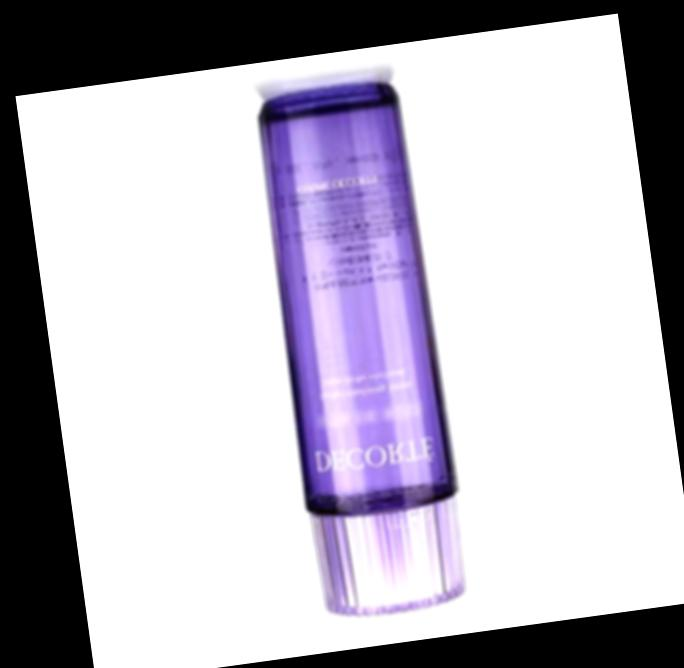cosmetic: (240, 75, 477, 618)
